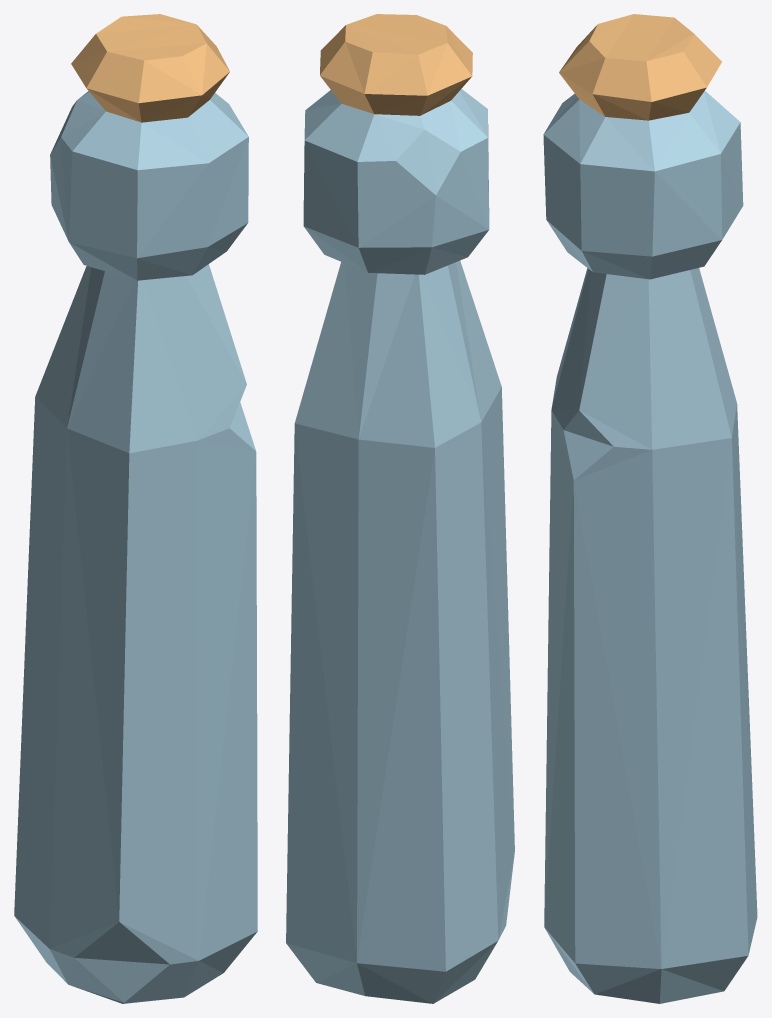
File: Poison_005.fbx
3 renders of one model, left to right at view 1: azimuth 30°, elevation 25°; view 2: azimuth 150°, elevation 25°; view 3: azimuth 270°, elevation 25°, orthographic.
Visible parts, largest first — view 1: Poison_005; view 2: Poison_005; view 3: Poison_005.
Boxes of the visible parts, x1,y1,x2,y2 form: Poison_005: [14, 14, 257, 1003]; Poison_005: [286, 14, 514, 1003]; Poison_005: [543, 14, 757, 1003].
Bounding box in the file's own units: 0.0641 × 0.3069 × 0.0635.
